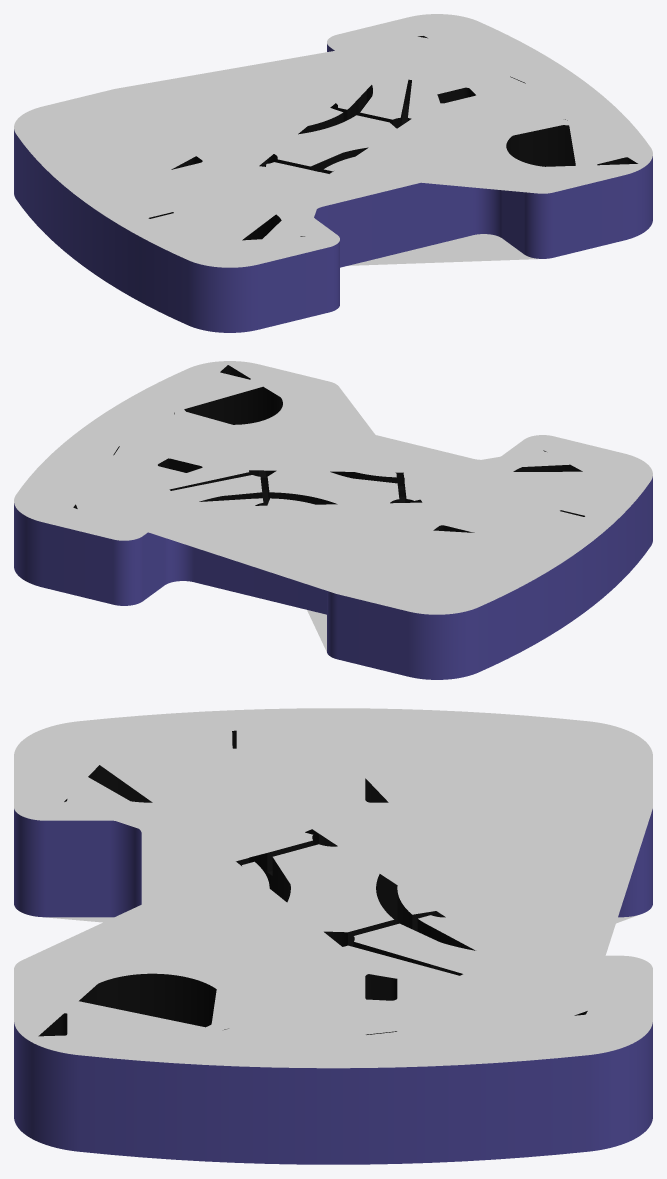
Rendered from Board.fbx.
3 renders of one model, top to bottom at view 1: azimuth 30°, elevation 25°; view 2: azimuth 150°, elevation 25°; view 3: azimuth 270°, elevation 25°, orthographic. The views are drawn at different scales.
Visible parts, largest first — view 1: Board; view 2: Board; view 3: Board.
Boxes of the visible parts, x1,y1,x2,y2 form: Board: (14, 14, 652, 332); Board: (14, 361, 652, 679); Board: (14, 708, 652, 1164).
Size of the model in its own units: 400 by 50 by 300.
